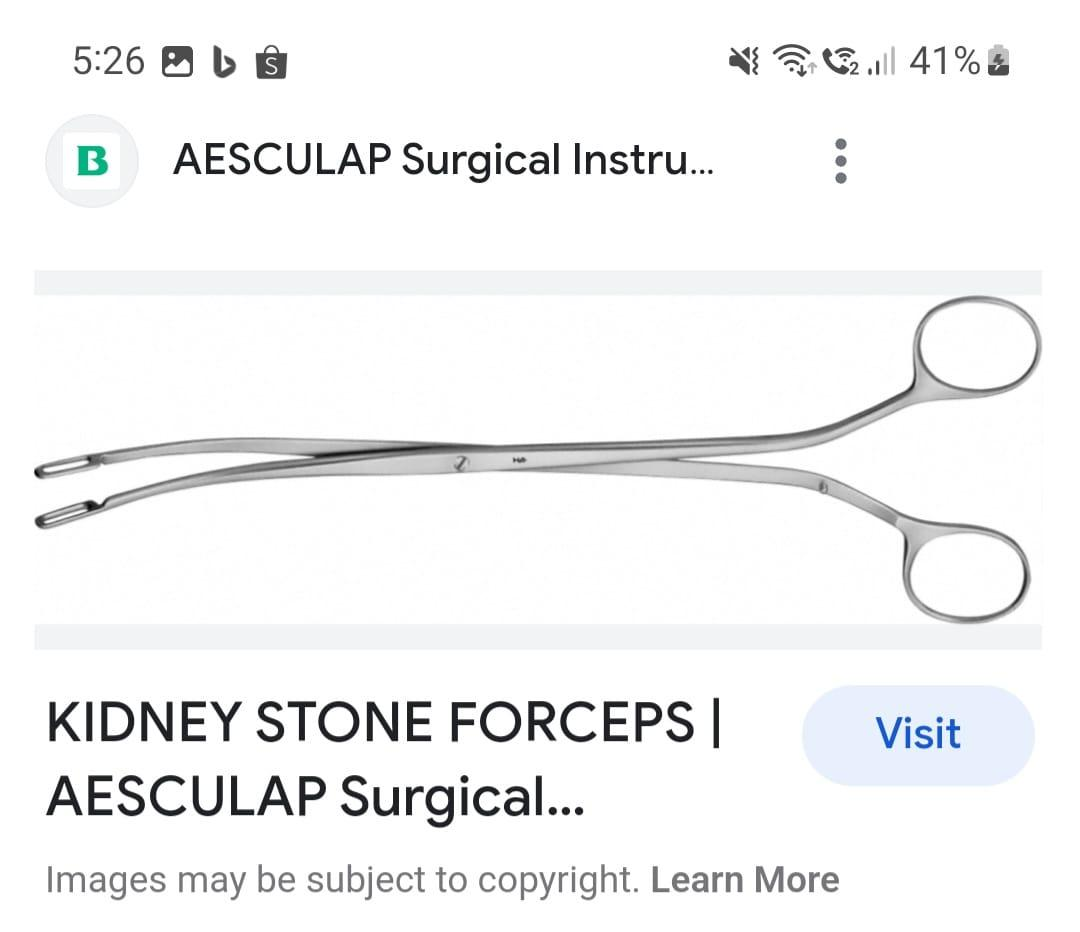Desjardin Forceps: (19, 287, 1053, 637)
